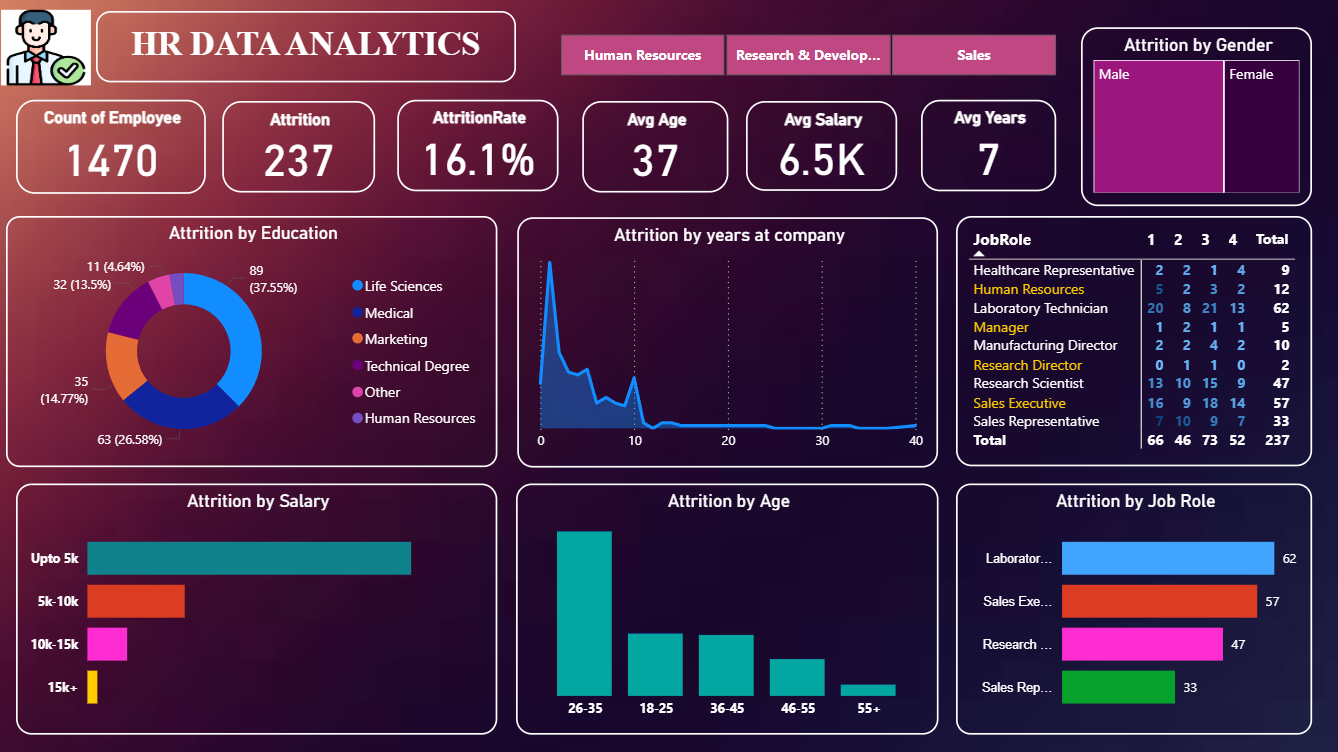

Layout of this report page (visuals, bound fields, positions):
{"tool":"powerbi","page":{"name":"Page 1","canvas":[1280,720],"ordinal":0},"visuals":[{"type":"card","title":"Count of Employee","fields":{"Values":["CountNonNull(HR_Analytics.EmpID)"]},"box":[35.3,84,149.5,75.6],"z":0},{"type":"card","title":"Attrition","fields":{"Values":["Sum(HR_Analytics.AttritionCount)"]},"box":[211.7,84,149.5,75.6],"z":1000},{"type":"card","title":"Attrition Rate","fields":{"Values":["HR_Analytics.AttritionRate"]},"box":[391.4,84,149.5,75.6],"z":2000},{"type":"card","title":"Avg Age","fields":{"Values":["Avg(HR_Analytics.Age)"]},"box":[564.4,84,149.5,75.6],"z":3000},{"type":"actionButton","box":[10.1,0,100.8,26.9],"z":4000},{"type":"card","title":"Avg Salary","fields":{"Values":["Avg(HR_Analytics.MonthlyIncome)"]},"box":[742.5,84,149.5,75.6],"z":5000},{"type":"card","title":"Avg Years","fields":{"Values":["Avg(HR_Analytics.YearsAtCompany)"]},"box":[918.8,84,149.5,75.6],"z":6000},{"type":"donutChart","title":"Attrition by Education","fields":{"Y":["Sum(HR_Analytics.AttritionCount)"],"Category":["HR_Analytics.EducationField","HR_Analytics.YearsAtCompany"]},"box":[24.1,191.3,367.1,248],"z":7000},{"type":"columnChart","title":"Attrition by Age","fields":{"Category":["HR_Analytics.AgeGroup"],"Y":["Sum(HR_Analytics.AttritionCount)"]},"box":[411,191.3,394,248],"z":8000},{"type":"pivotTable","fields":{"Rows":["HR_Analytics.JobRole"],"Columns":["HR_Analytics.JobSatisfaction"],"Values":["Sum(HR_Analytics.AttritionCount)"]},"box":[837.6,191.3,389.8,248],"z":9000},{"type":"barChart","title":"Attrition by Salary","fields":{"Category":["HR_Analytics.SalarySlab"],"Y":["Sum(HR_Analytics.AttritionCount)"]},"box":[24.1,453.5,367.1,249.4],"z":10000},{"type":"barChart","title":"Attrition by Job Role","fields":{"Category":["HR_Analytics.JobRole"],"Y":["Sum(HR_Analytics.AttritionCount)"]},"box":[829.1,452.1,408.2,248],"z":11000},{"type":"areaChart","title":"Attrition by Years at Company","fields":{"Category":["HR_Analytics.YearsAtCompany"],"Y":["Sum(HR_Analytics.AttritionCount)"]},"box":[411,453.5,396.9,246.6],"z":12000},{"type":"treemap","title":"Attrition by Gender","fields":{"Group":["HR_Analytics.Gender"],"Values":["Sum(HR_Analytics.AttritionCount)"]},"box":[1085,14.1,174,144.3],"z":13000},{"type":"slicer","fields":{"Values":["HR_Analytics.Department"]},"box":[584.2,14.1,447,53.8],"z":14000},{"type":"textbox","box":[110.3,0,431.4,53.8],"z":15000}]}

Visuals, with their boxes in screenshot pixels (x1, y1, x2, y2), scaled from the page's 1280x720 canvas onto the 1338x752 screenshot:
"Count of Employee" card: 37 88 193 167
"Attrition" card: 221 88 378 167
"Attrition Rate" card: 409 88 565 167
"Avg Age" card: 590 88 746 167
actionButton: 11 0 116 28
"Avg Salary" card: 776 88 932 167
"Avg Years" card: 960 88 1117 167
"Attrition by Education" donutChart: 25 200 409 459
"Attrition by Age" columnChart: 430 200 841 459
pivotTable - HR_Analytics.JobRole x HR_Analytics.JobSatisfaction: 876 200 1283 459
"Attrition by Salary" barChart: 25 474 409 734
"Attrition by Job Role" barChart: 867 472 1293 731
"Attrition by Years at Company" areaChart: 430 474 845 731
"Attrition by Gender" treemap: 1134 15 1316 165
slicer - HR_Analytics.Department: 611 15 1078 71
textbox: 115 0 566 56
